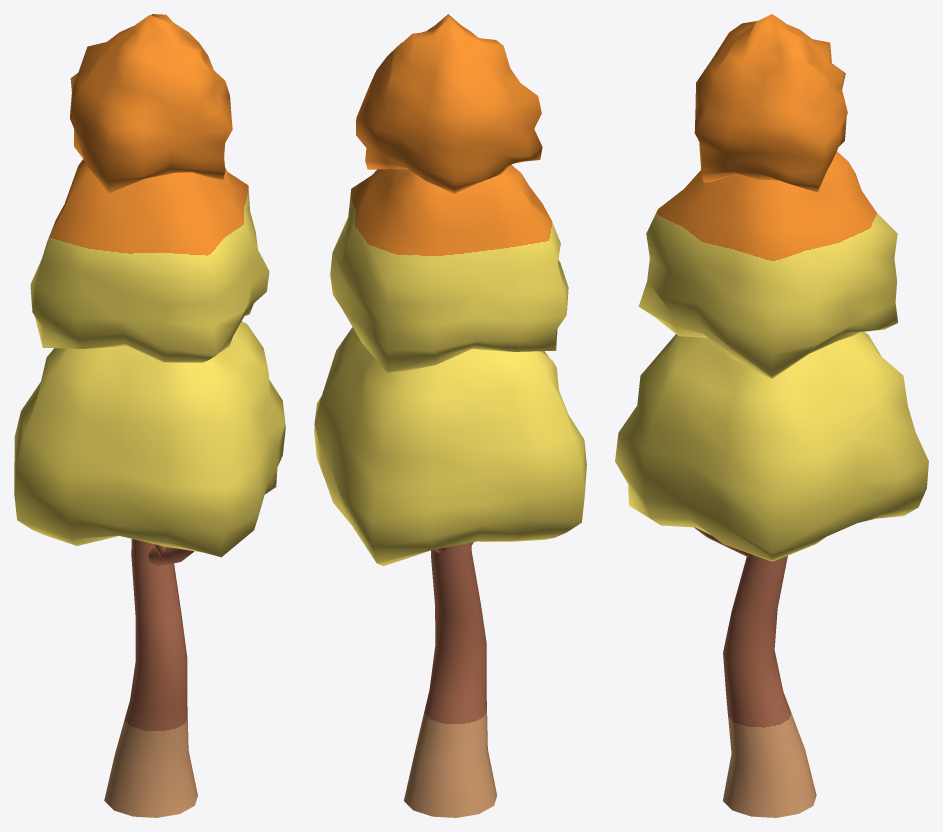
The model's file is ArbolSeco_01.fbx.
3 views of the same model, side by side, from view 1: azimuth 30°, elevation 25°; view 2: azimuth 150°, elevation 25°; view 3: azimuth 270°, elevation 25° (orthographic).
Visible parts, largest first — view 1: ArbolSeco_01; view 2: ArbolSeco_01; view 3: ArbolSeco_01.
Part boxes in pixels (x1,y1,x2,y2): ArbolSeco_01: [14, 14, 285, 817]; ArbolSeco_01: [314, 14, 586, 817]; ArbolSeco_01: [615, 14, 928, 817].
Bounding box in the file's own units: 1096 × 3019 × 1096.
